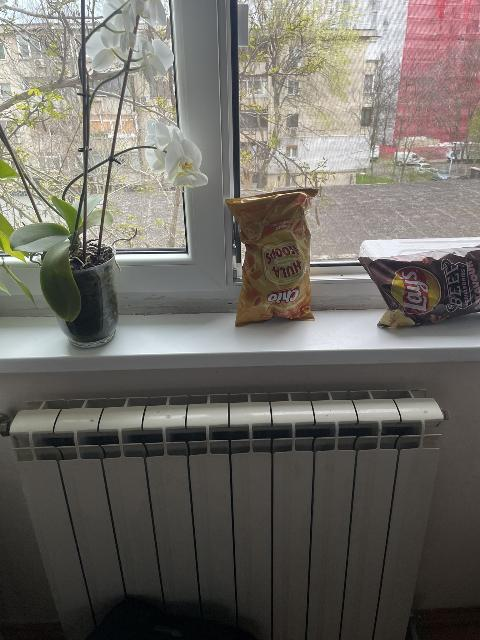Chio Hula Hoops Cheese 70g: (221, 188, 314, 324)
Lays Beef Grilled Ribs 125g: (357, 239, 474, 327)
